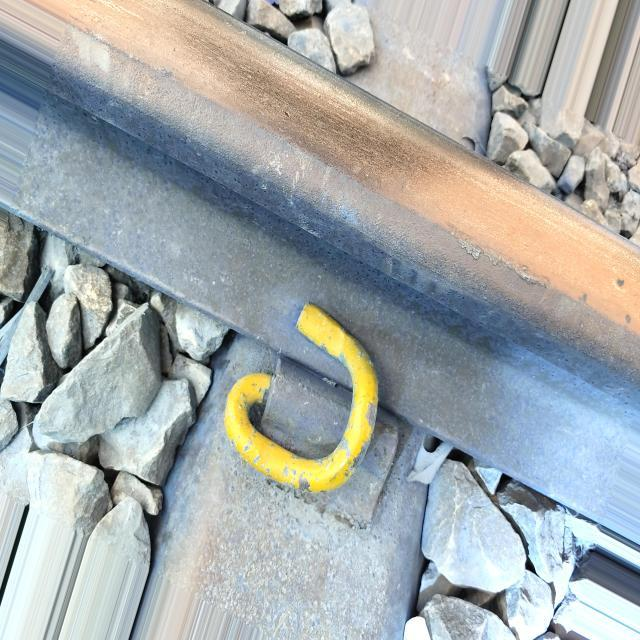Good Fasteners: (224, 304, 398, 528)
